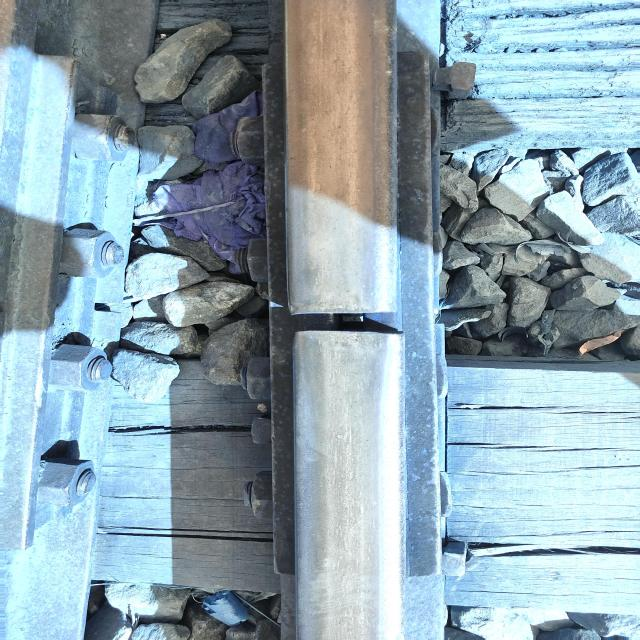crack: (274, 278, 428, 370)
